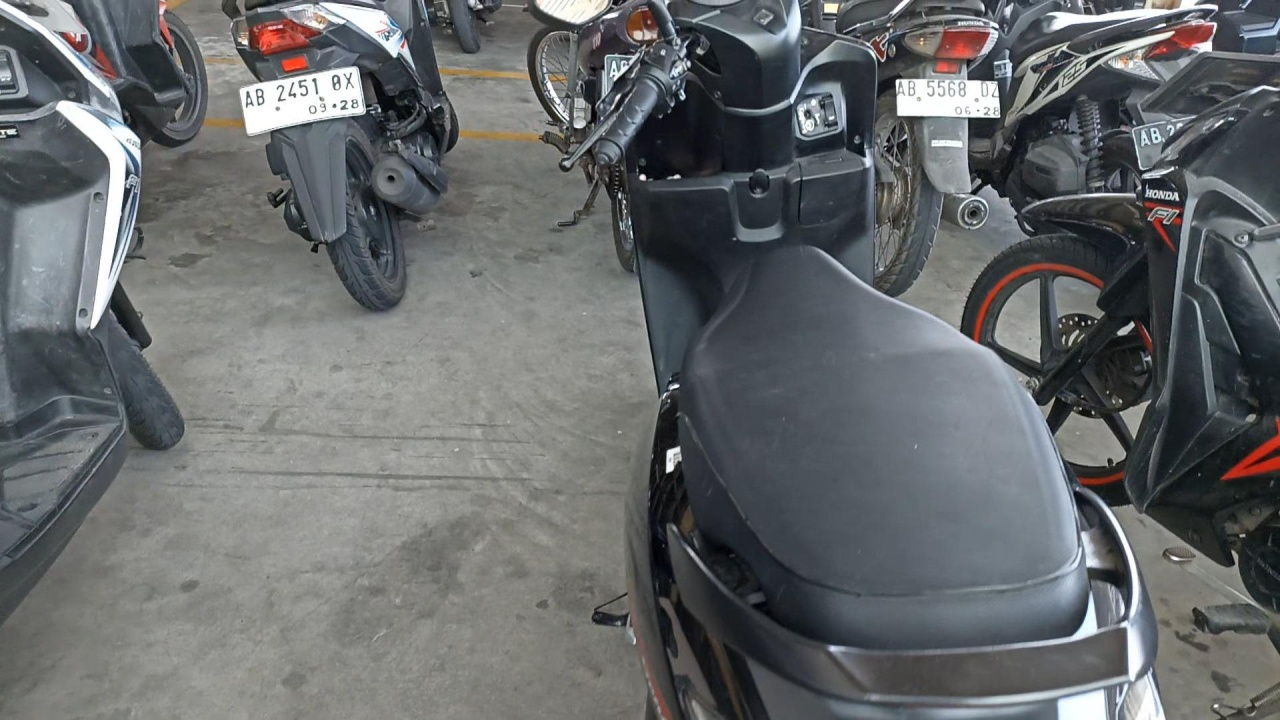plate: (239, 65, 365, 136), (895, 80, 1001, 117)
